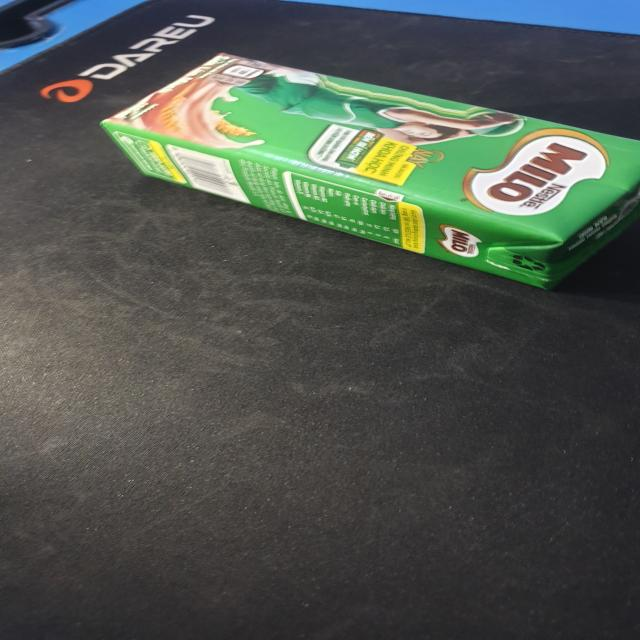Milo: (97, 53, 640, 292)
